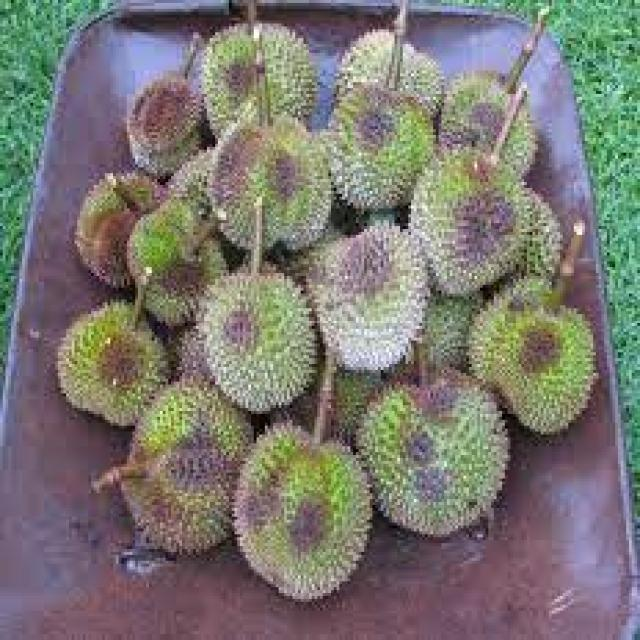defective: (358, 376, 510, 544), (232, 420, 371, 597), (192, 259, 320, 411), (314, 216, 431, 375), (412, 151, 532, 302), (210, 110, 330, 258)
